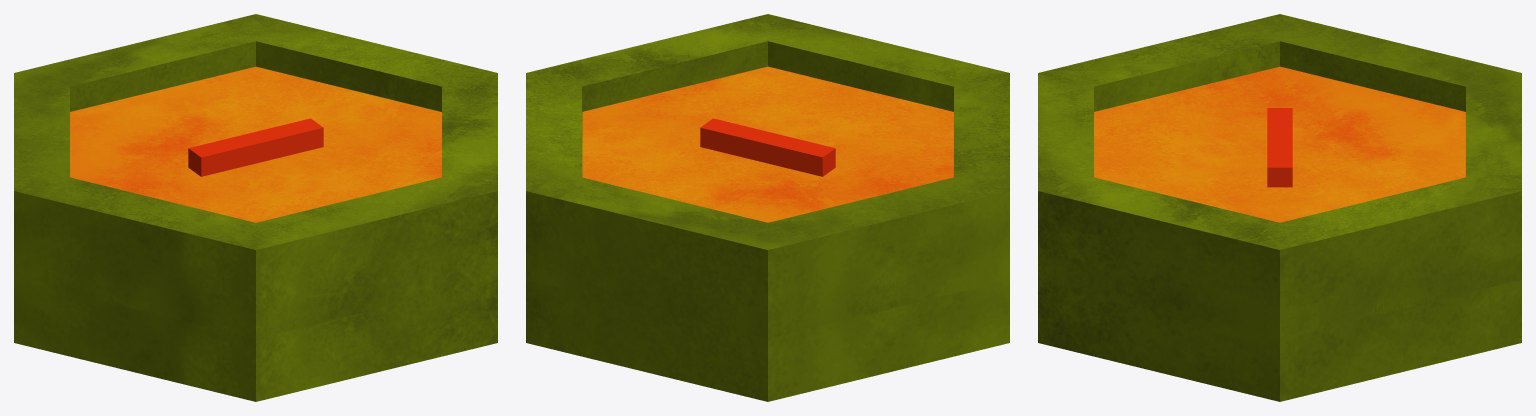
Rendered from Short.FBX.
The picture shows the model from 3 angles, left to right: view 1: azimuth 30°, elevation 25°; view 2: azimuth 150°, elevation 25°; view 3: azimuth 270°, elevation 25°; orthographic projection.
Parts seen in each view (by area): view 1: Cylinder025; view 2: Cylinder025; view 3: Cylinder025.
Part boxes in pixels (x1,y1,x2,y2): Cylinder025: (14,14,497,401); Cylinder025: (526,14,1009,401); Cylinder025: (1038,14,1521,401).
Size of the model in its own units: 20 by 17.32 by 6.
